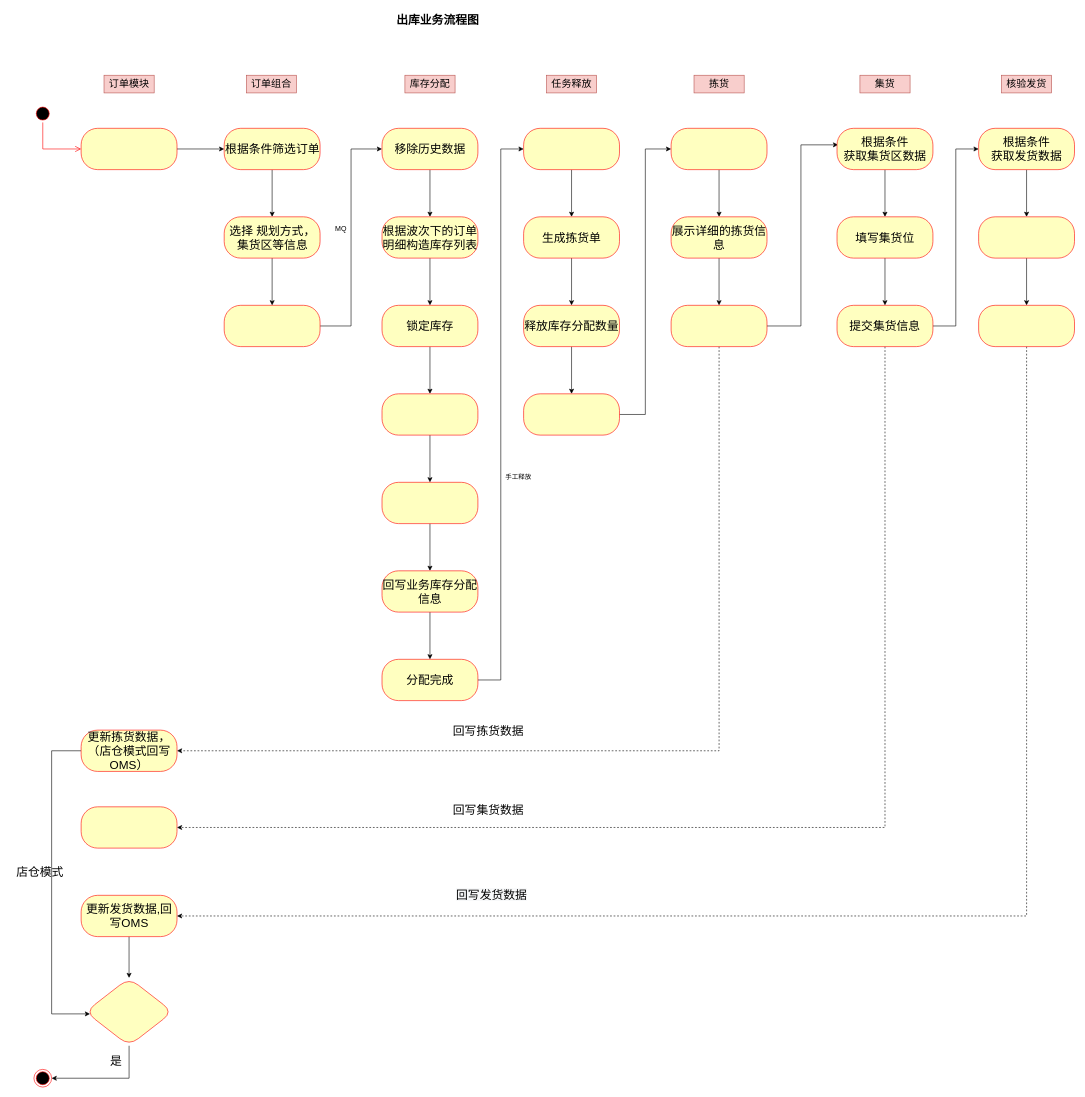
This 1085x1097 diagram has some shape labels left out. Each missing label, with the centre of its shape:
保存库存分配结果: the point at 429,503
判断订单 是否完成: the point at 129,1011
存货区/拣货区分配库存: the point at 429,414
接收出库订单: the point at 129,149
提交发货信息: the point at 1026,326
提交拣货数据， 减库存: the point at 719,326
更新集货数据: the point at 129,827
核验发货数据与实物是否一致: the point at 1026,237
生成下架任务: the point at 571,149
生成波次单，投递mq，进行库存分配: the point at 272,326
释放完成: the point at 571,414
领取拣货任务: the point at 719,149
